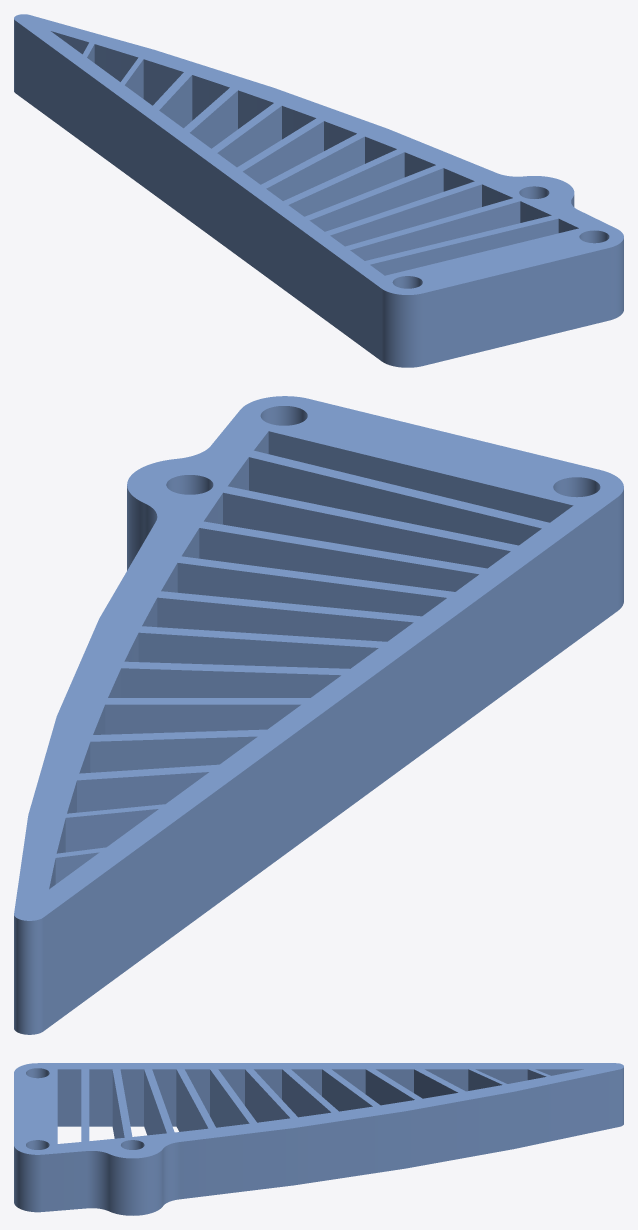
The model's file is soft_gripper_finger.gltf.
3 views of the same model, one above another, from view 1: azimuth 30°, elevation 25°; view 2: azimuth 150°, elevation 25°; view 3: azimuth 270°, elevation 25° (orthographic). The views are drawn at different scales.
Parts seen in each view (by area): view 1: mesh1571, mesh1622, mesh1621, mesh1578, mesh1631, mesh1582, mesh1573, mesh1586, mesh1590, mesh1594, mesh1598, mesh1602 (+9 smaller); view 2: mesh1571, mesh1622, mesh1572, mesh1577, mesh1581, mesh1626, mesh1585, mesh1589, mesh1593, mesh1597, mesh1601, mesh1605 (+4 smaller); view 3: mesh1623, mesh1571, mesh1624, mesh1627, mesh1630, mesh1625, mesh1576, mesh1629, mesh1594, mesh1590, mesh1598, mesh1580 (+18 smaller).
Boxes of the visible parts, left/top/right/bottom form: mesh1571: left=14, top=14, right=623, bottom=294; mesh1622: left=15, top=21, right=381, bottom=360; mesh1621: left=423, top=248, right=608, bottom=365; mesh1578: left=350, top=201, right=520, bottom=260; mesh1631: left=381, top=289, right=422, bottom=367; mesh1582: left=330, top=184, right=481, bottom=246; mesh1573: left=370, top=218, right=558, bottom=275; mesh1586: left=309, top=168, right=443, bottom=231; mesh1590: left=288, top=152, right=404, bottom=216; mesh1594: left=266, top=136, right=364, bottom=200; mesh1598: left=243, top=121, right=323, bottom=184; mesh1602: left=217, top=106, right=281, bottom=167; mesh1571: left=14, top=396, right=623, bottom=920; mesh1622: left=43, top=497, right=617, bottom=1031; mesh1572: left=249, top=457, right=541, bottom=545; mesh1577: left=223, top=492, right=510, bottom=568; mesh1581: left=199, top=528, right=478, bottom=591; mesh1626: left=268, top=431, right=573, bottom=522; mesh1585: left=177, top=563, right=446, bottom=616; mesh1589: left=157, top=597, right=413, bottom=641; mesh1593: left=138, top=632, right=378, bottom=668; mesh1597: left=121, top=668, right=340, bottom=697; mesh1601: left=105, top=704, right=300, bottom=734; mesh1605: left=90, top=736, right=257, bottom=772; mesh1623: left=180, top=1069, right=619, bottom=1199; mesh1571: left=14, top=1063, right=623, bottom=1158; mesh1624: left=109, top=1149, right=162, bottom=1215; mesh1627: left=42, top=1151, right=86, bottom=1211; mesh1630: left=14, top=1146, right=41, bottom=1212; mesh1625: left=57, top=1069, right=81, bottom=1126; mesh1576: left=89, top=1069, right=112, bottom=1126; mesh1629: left=87, top=1151, right=109, bottom=1210; mesh1594: left=245, top=1069, right=289, bottom=1122; mesh1590: left=210, top=1070, right=249, bottom=1127; mesh1598: left=282, top=1069, right=330, bottom=1117; mesh1580: left=120, top=1069, right=143, bottom=1126.
Size of the model in its own units: 0.0285 by 0.008 by 0.0771.
